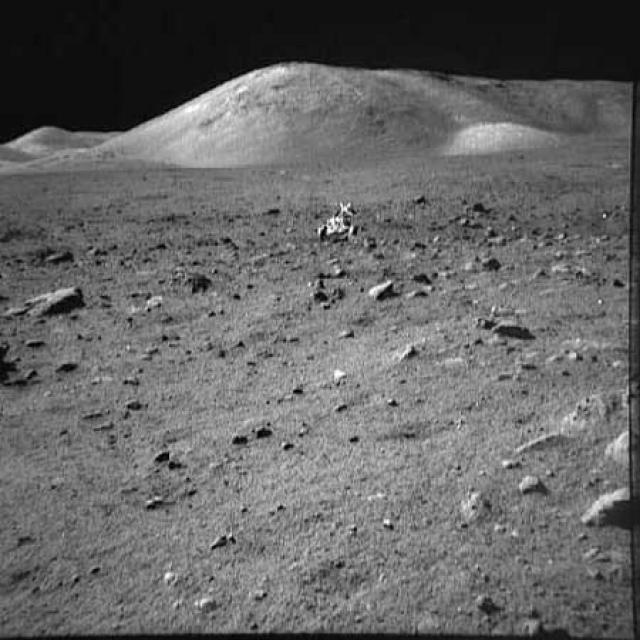artifact: (307, 193, 372, 246)
crater: (357, 410, 467, 450), (296, 280, 364, 314)
rock: (573, 478, 639, 537), (20, 282, 98, 318), (598, 419, 638, 473), (457, 484, 497, 534), (493, 314, 544, 346), (512, 468, 548, 501), (369, 269, 398, 308)
